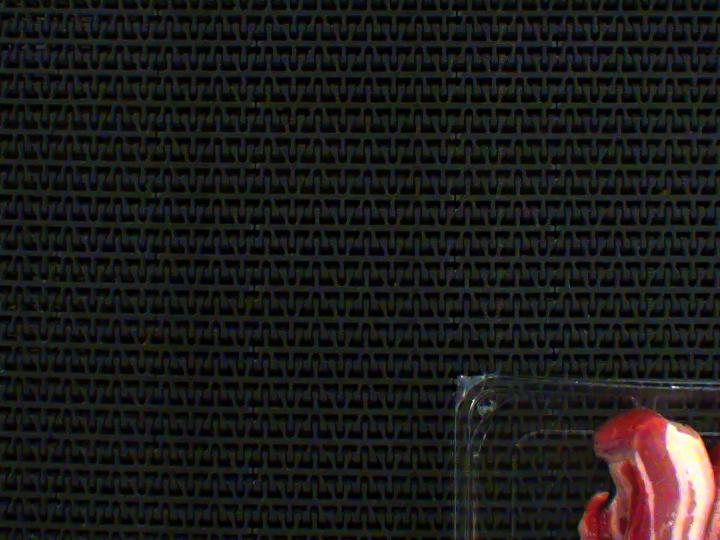packaging-error: (629, 390, 660, 418)
